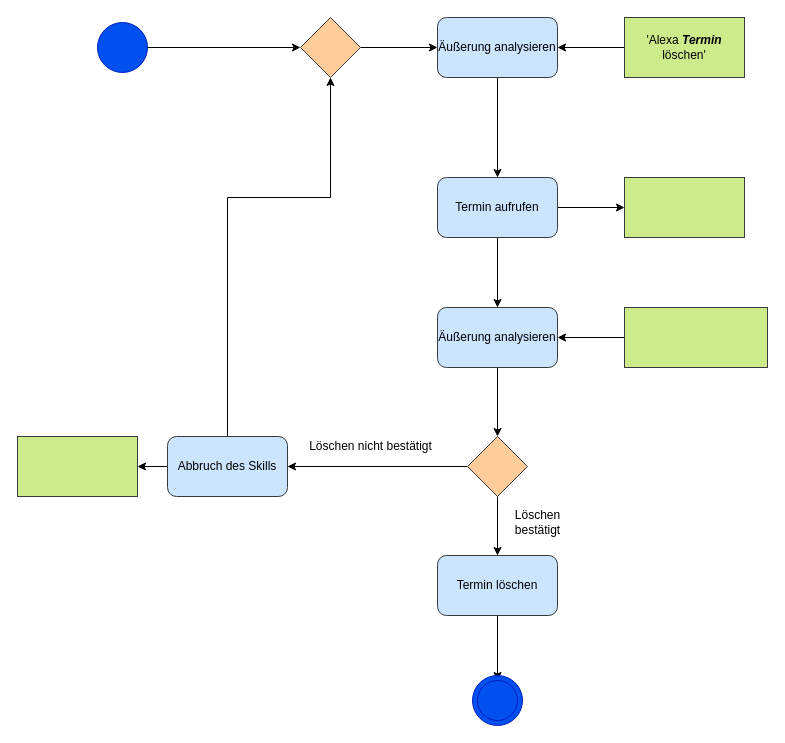
This 785x743 diagram has some shape labels left out. The shapes that lost their labels are listed below. From the top down, each one's centre as x and y in pixels, then its label:
At pixel 684 207: "'Sind Sie sicher, dass der Termin Termin geöscht werden soll?'".
At pixel 696 337: "' Bestätigungswort '".
At pixel 77 466: "'Termin wurde nicht gelöscht'".
